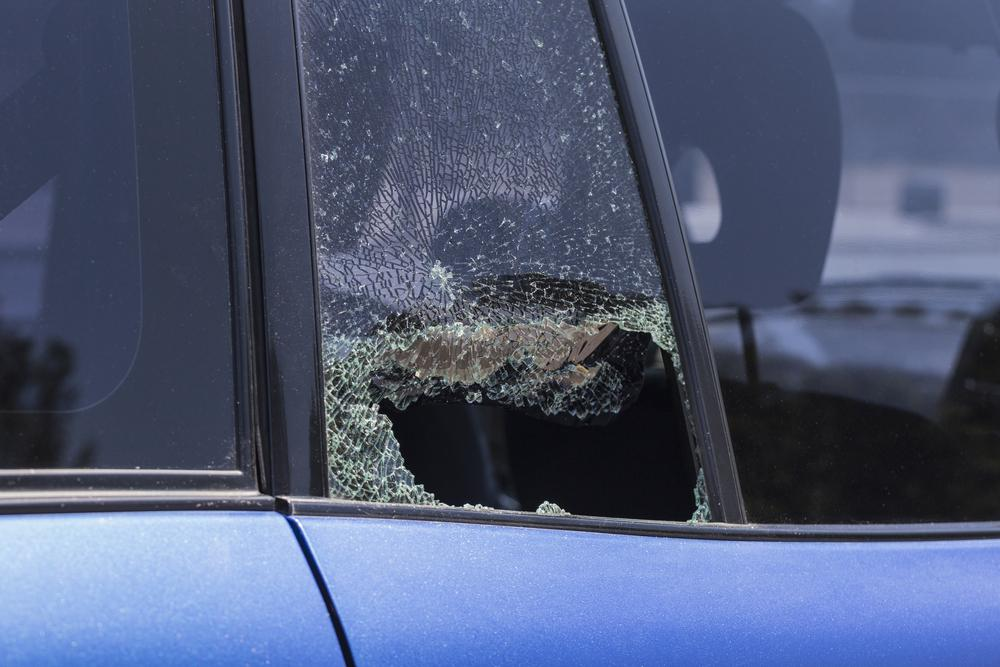glass shatter: (294, 0, 713, 523)
